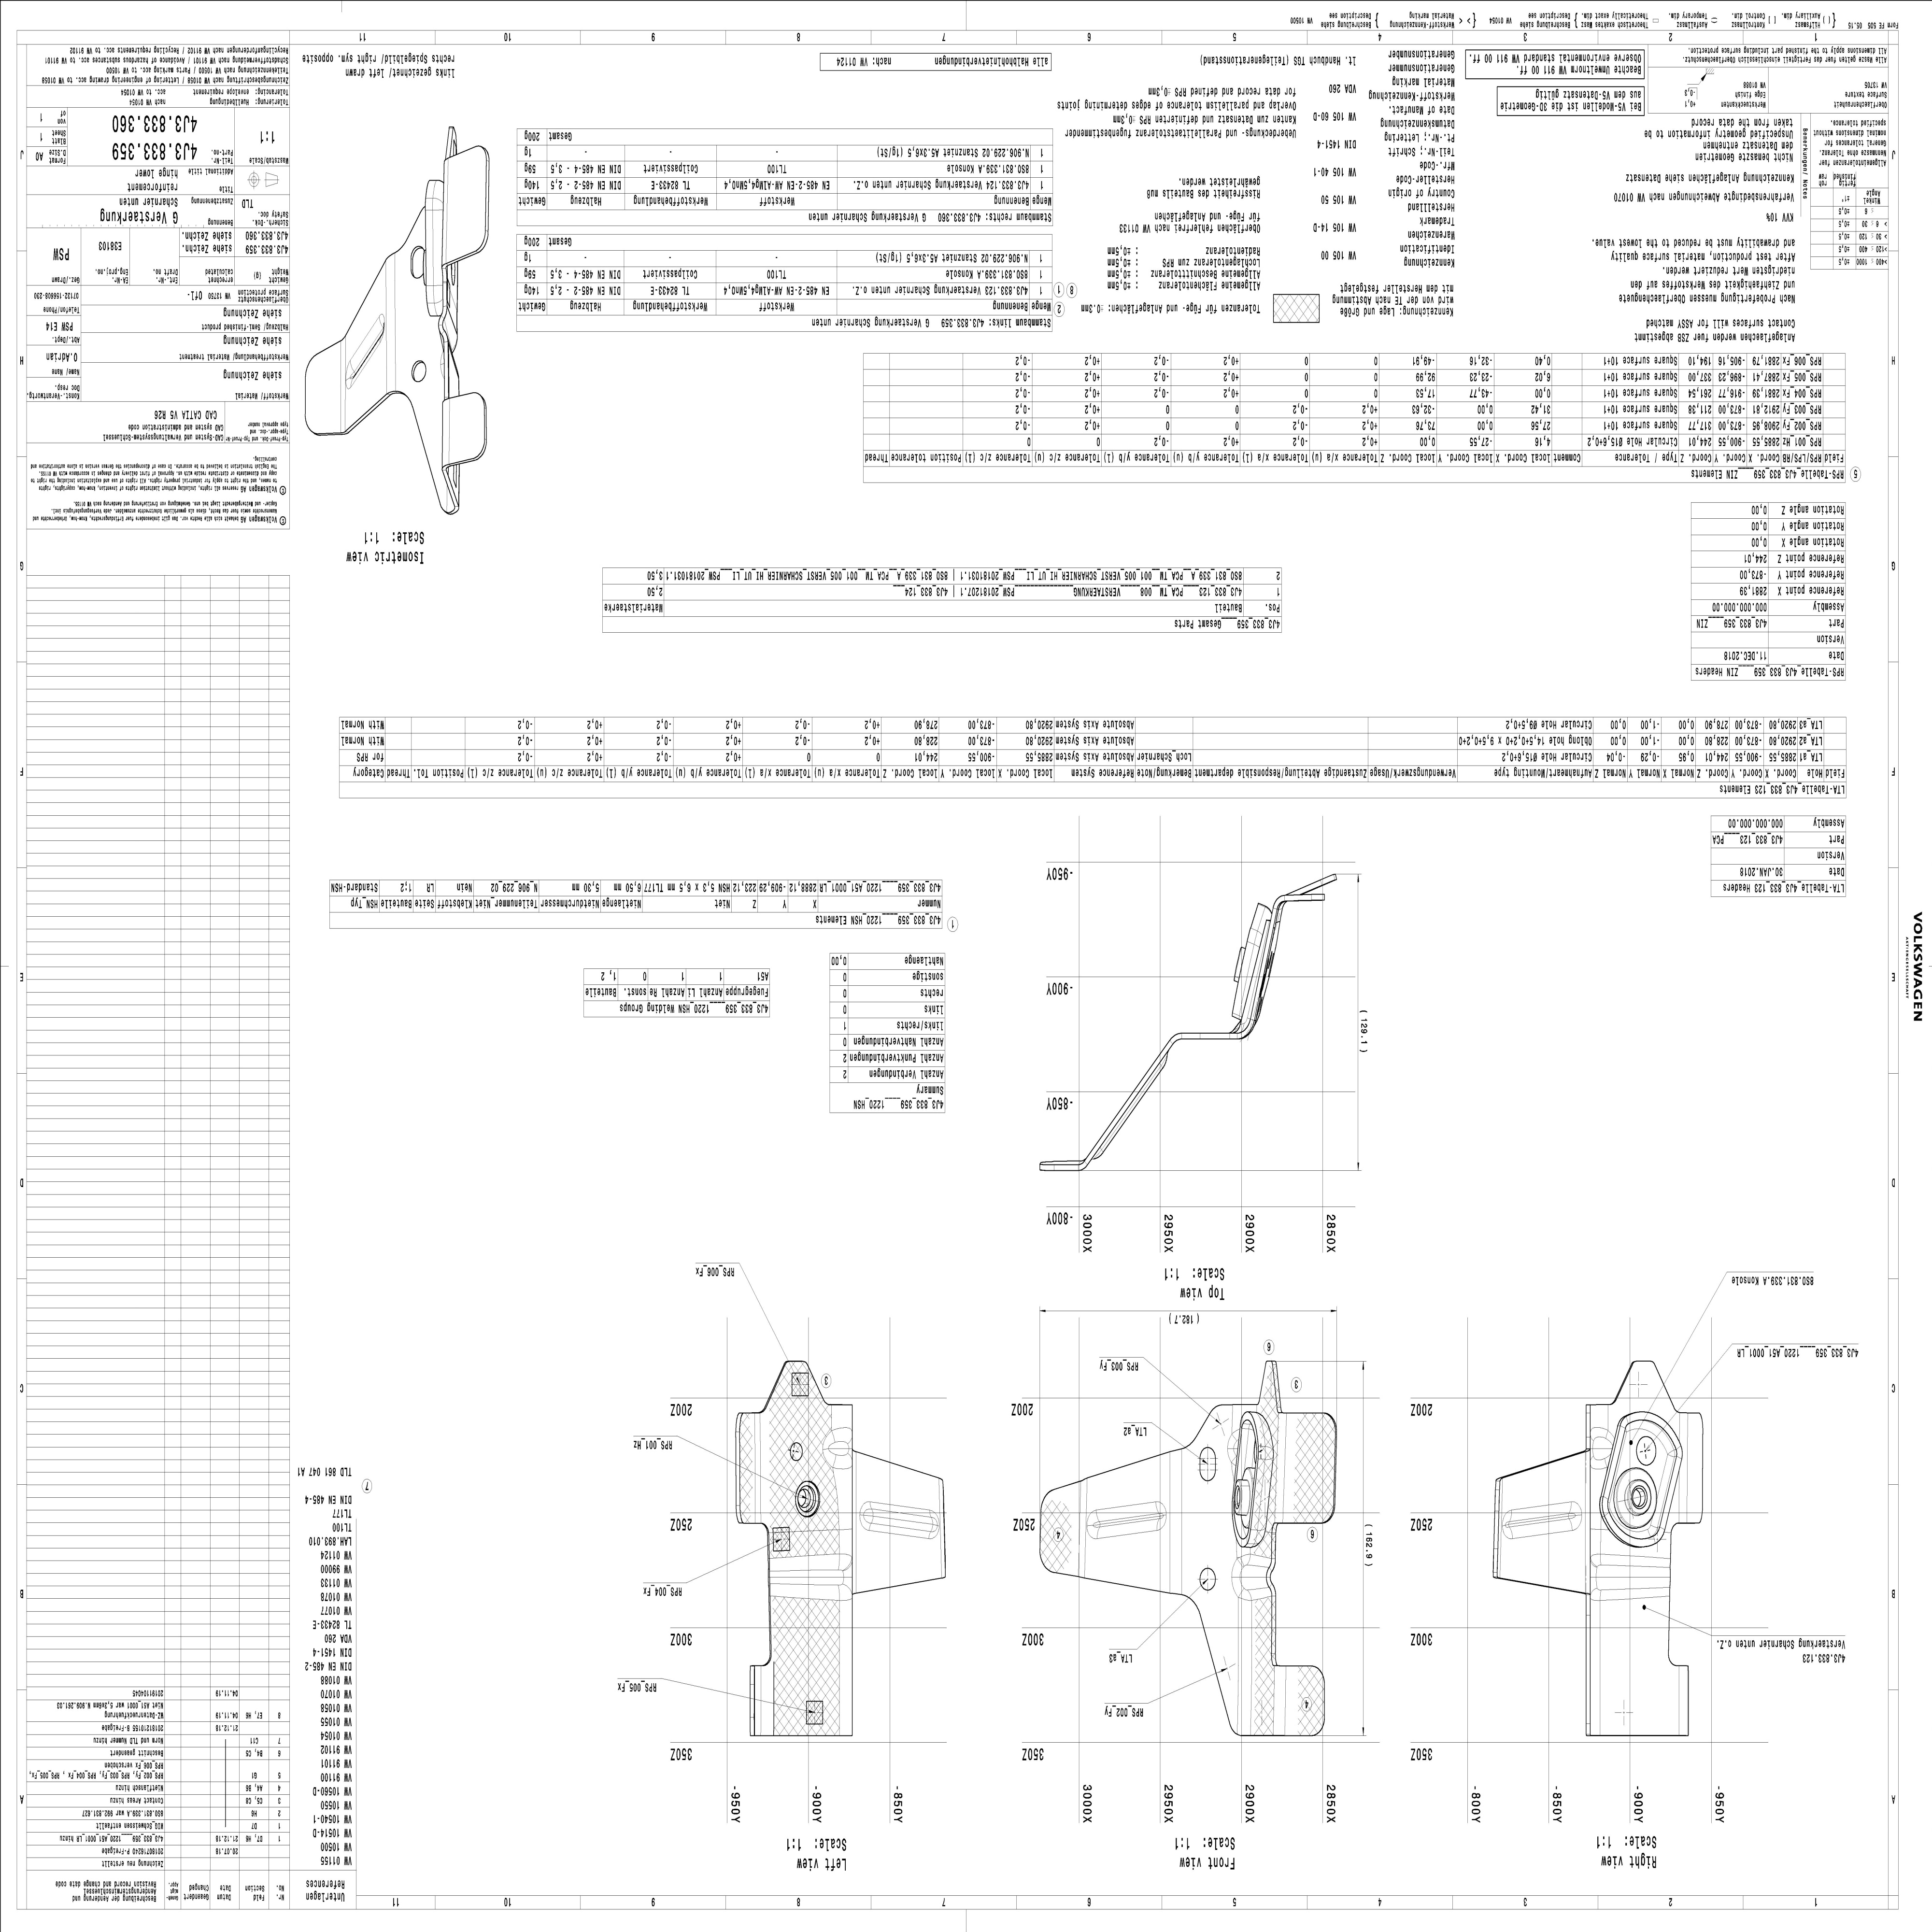Embossment: (334, 311, 396, 393), (1587, 1550, 1670, 1603), (1497, 1497, 1585, 1546), (768, 1553, 855, 1603), (856, 1497, 943, 1543), (1083, 1499, 1169, 1545)
InnerContour: (1198, 1444, 1217, 1484), (409, 246, 425, 280), (407, 359, 428, 384), (1196, 1564, 1215, 1591), (787, 1442, 805, 1463)
Reinforcement: (1230, 1553, 1276, 1603), (1582, 1421, 1619, 1474), (823, 1424, 853, 1470)
ThroughHole: (793, 1479, 823, 1520), (1628, 1483, 1651, 1513)
